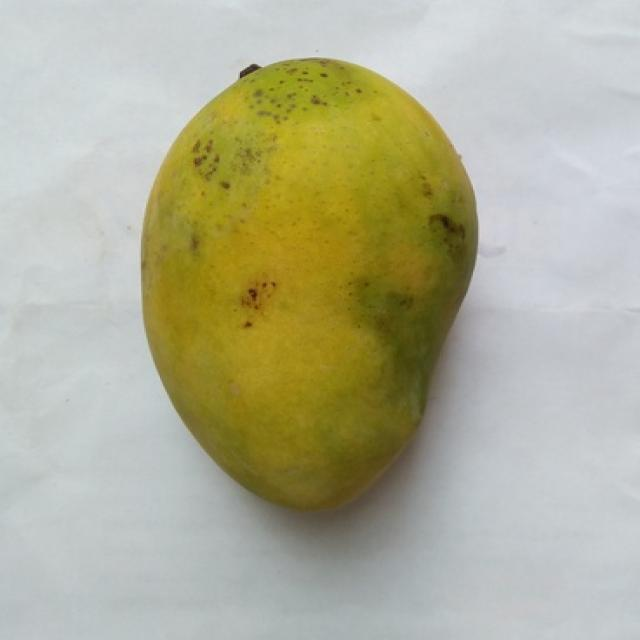Mango: (143, 58, 477, 509)
